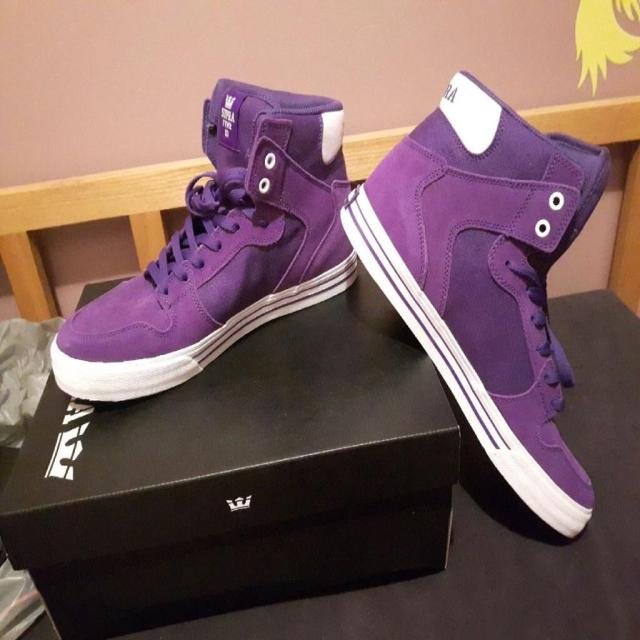shoe: (335, 58, 634, 552), (44, 54, 354, 408)
